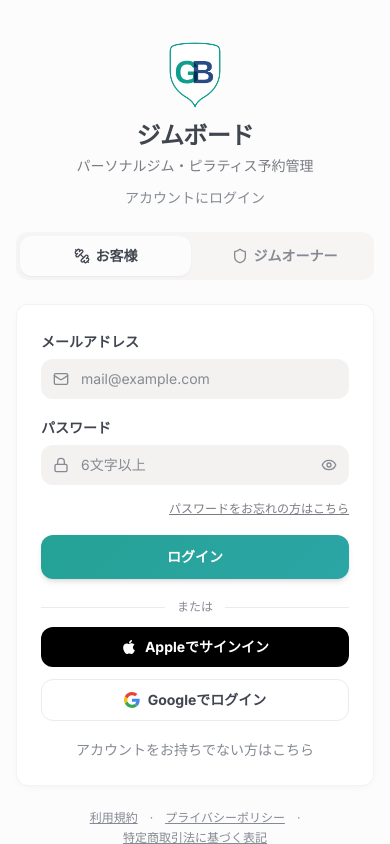
it: 確認メール送信後の画面 › トーストではなくカード内のパネルで案内する
Click the button "アカウントをお持ちでない方はこちら": {"x": 195, "y": 750} [76,740,314,760]
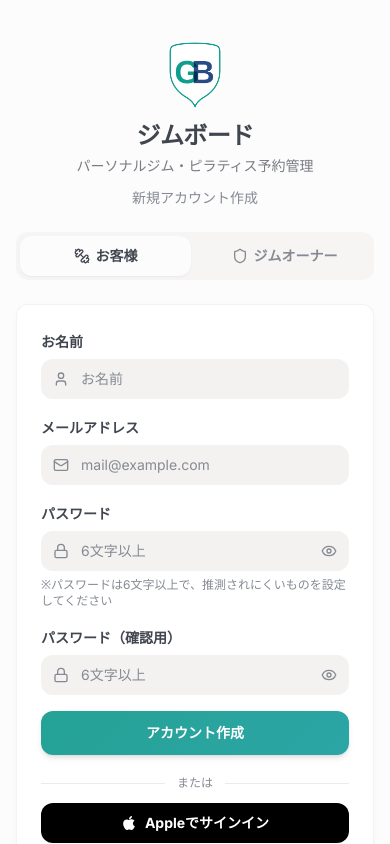
In the field labelled "メールアドレス": {"x": 195, "y": 465} [41,445,349,485], type "tester@example.com"
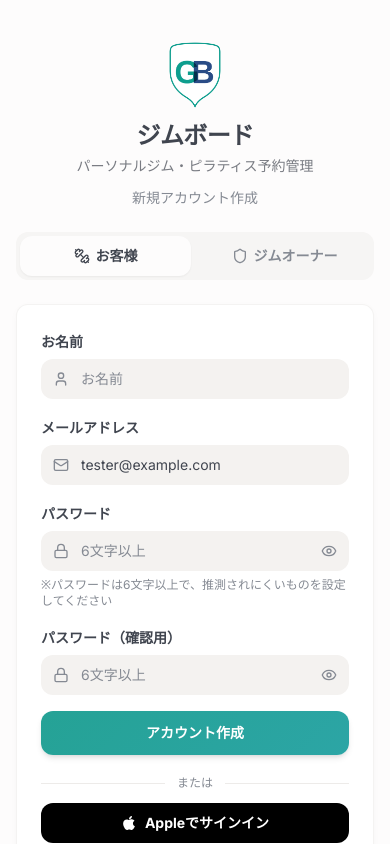
In the password field labelled "パスワード": {"x": 195, "y": 551} [41,531,349,571], type "abcdef12"
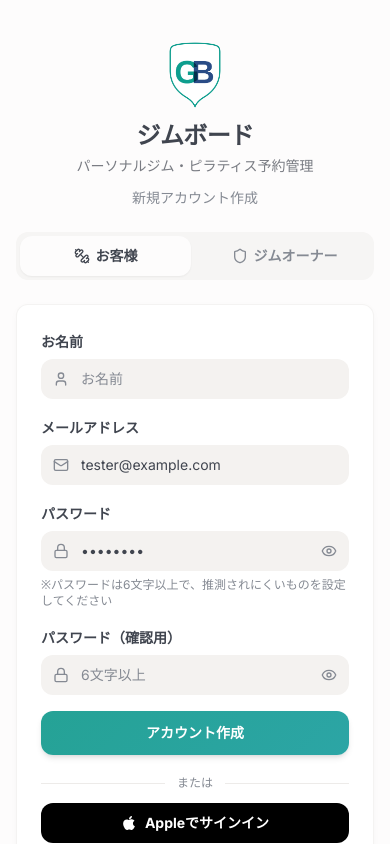
In the password field labelled "パスワード（確認用）": {"x": 195, "y": 675} [41,655,349,695], type "abcdef12"
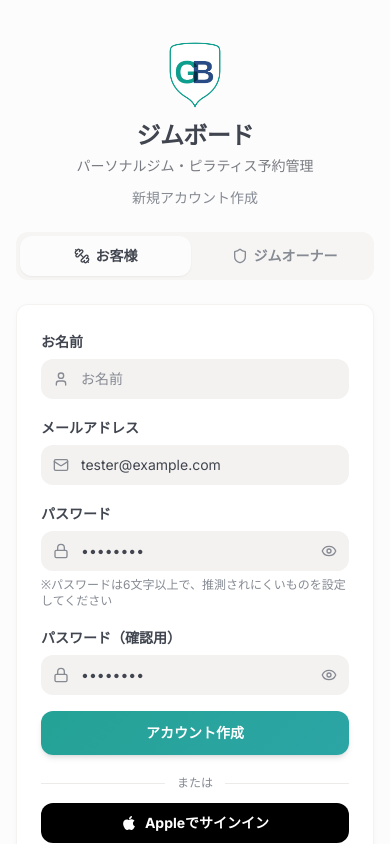
Click the button "アカウント作成": {"x": 195, "y": 733} [41,711,349,755]
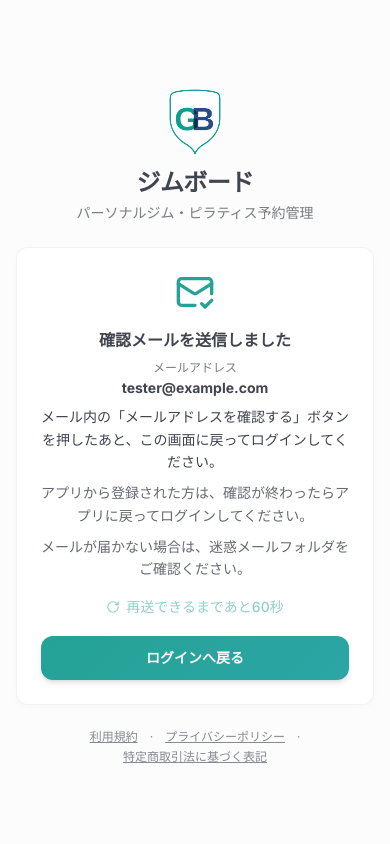
Now the heading "確認メールを送信しました" is shown, box [99,330,291,350]
Now the text "tester@example.com" is shown, box [122,379,268,396]
Now the text "メール内の「メールアドレスを確認する」ボタンを押したあと、この画面に戻ってログインしてください。" is shown, box [41,406,349,474]
